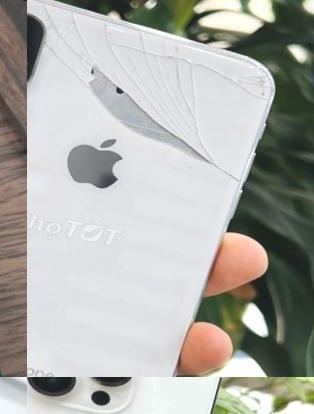physical_damage: (98, 19, 278, 109), (57, 60, 176, 136), (160, 119, 262, 200), (27, 0, 115, 66), (107, 116, 176, 161)
